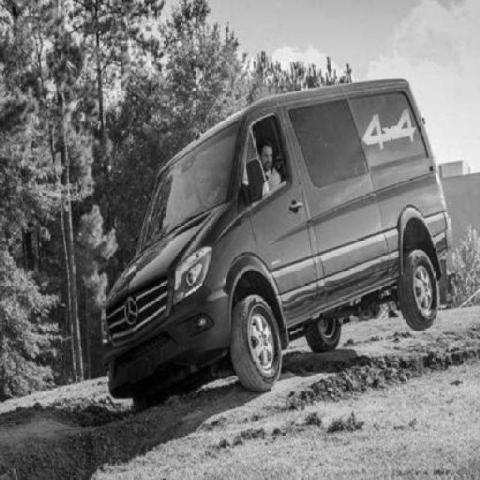van: (107, 78, 450, 410)
